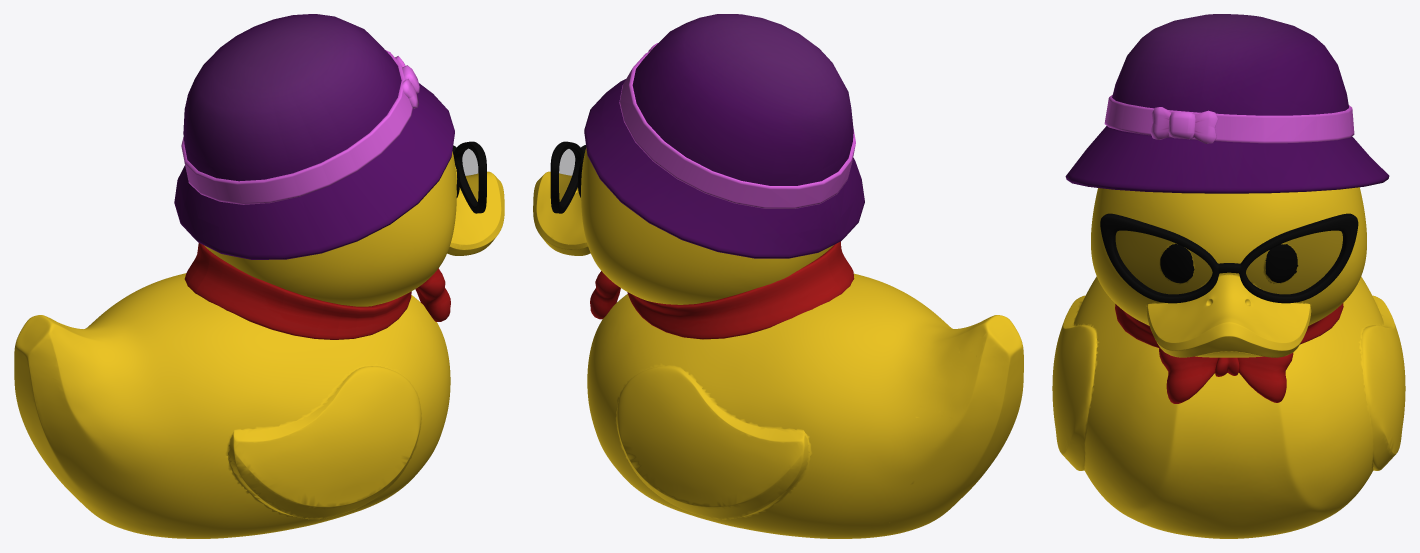
3 views of the same model, side by side, from view 1: azimuth 30°, elevation 25°; view 2: azimuth 150°, elevation 25°; view 3: azimuth 270°, elevation 25° (orthographic). The views are drawn at different scales.
Parts seen in each view (by area): view 1: Base Tubbz (5th Anniversary), model_0, model_0.002, model_0.001; view 2: Base Tubbz (5th Anniversary), model_0, model_0.002, model_0.001; view 3: Base Tubbz (5th Anniversary), model_0, model_0.001, model_0.002.
Part boxes in pixels (x1,y1,x2,y2): Base Tubbz (5th Anniversary): (14,151,504,538); model_0: (174,14,454,259); model_0.002: (184,243,450,339); model_0.001: (452,141,486,213); Base Tubbz (5th Anniversary): (533,148,1023,538); model_0: (584,14,864,258); model_0.002: (590,241,854,339); model_0.001: (550,141,586,213); Base Tubbz (5th Anniversary): (1052,187,1405,538); model_0: (1065,14,1389,193); model_0.001: (1100,213,1358,303); model_0.002: (1115,303,1343,403).
Bounding box in the file's own units: 120 × 106 × 71.51.
6 materials, 2 textured.
